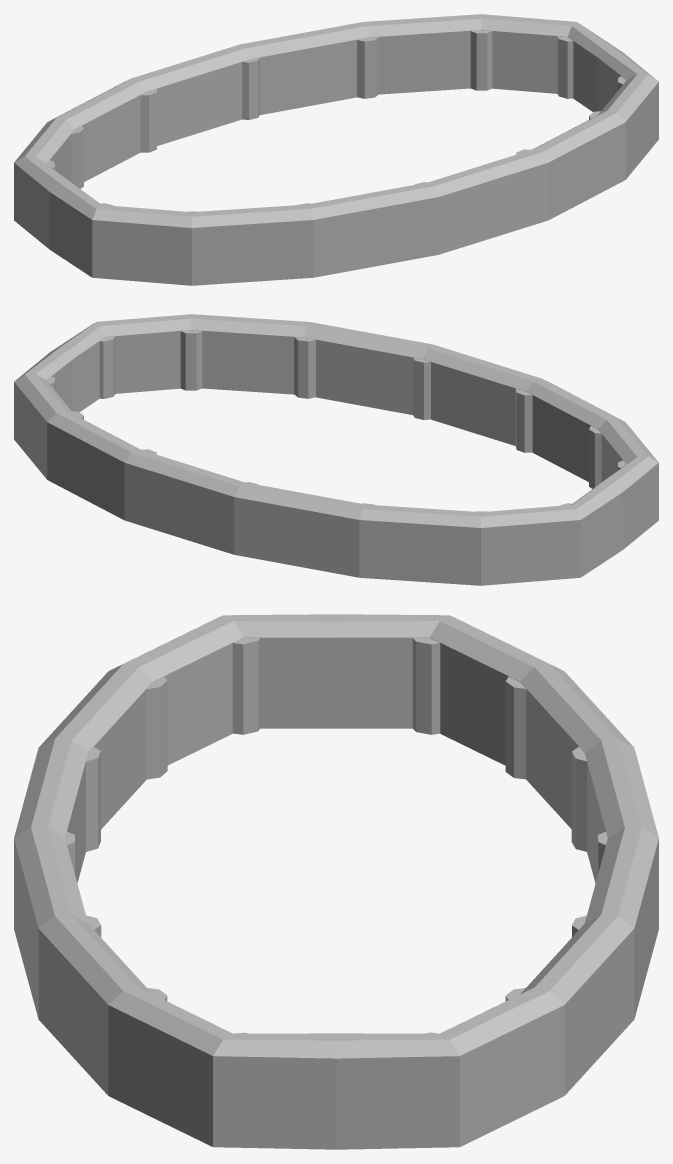
The model's file is Arena_1.fbx.
The picture shows the model from 3 angles, top to bottom: view 1: azimuth 30°, elevation 25°; view 2: azimuth 150°, elevation 25°; view 3: azimuth 270°, elevation 25°; orthographic projection. The views are drawn at different scales.
Parts seen in each view (by area): view 1: Cylinder; view 2: Cylinder; view 3: Cylinder.
Part boxes in pixels (box(x1,y1,x2,y2)): Cylinder: box(14, 14, 658, 285); Cylinder: box(14, 314, 658, 585); Cylinder: box(14, 614, 658, 1149).
Size of the model in its own units: 1421 by 153 by 878.
